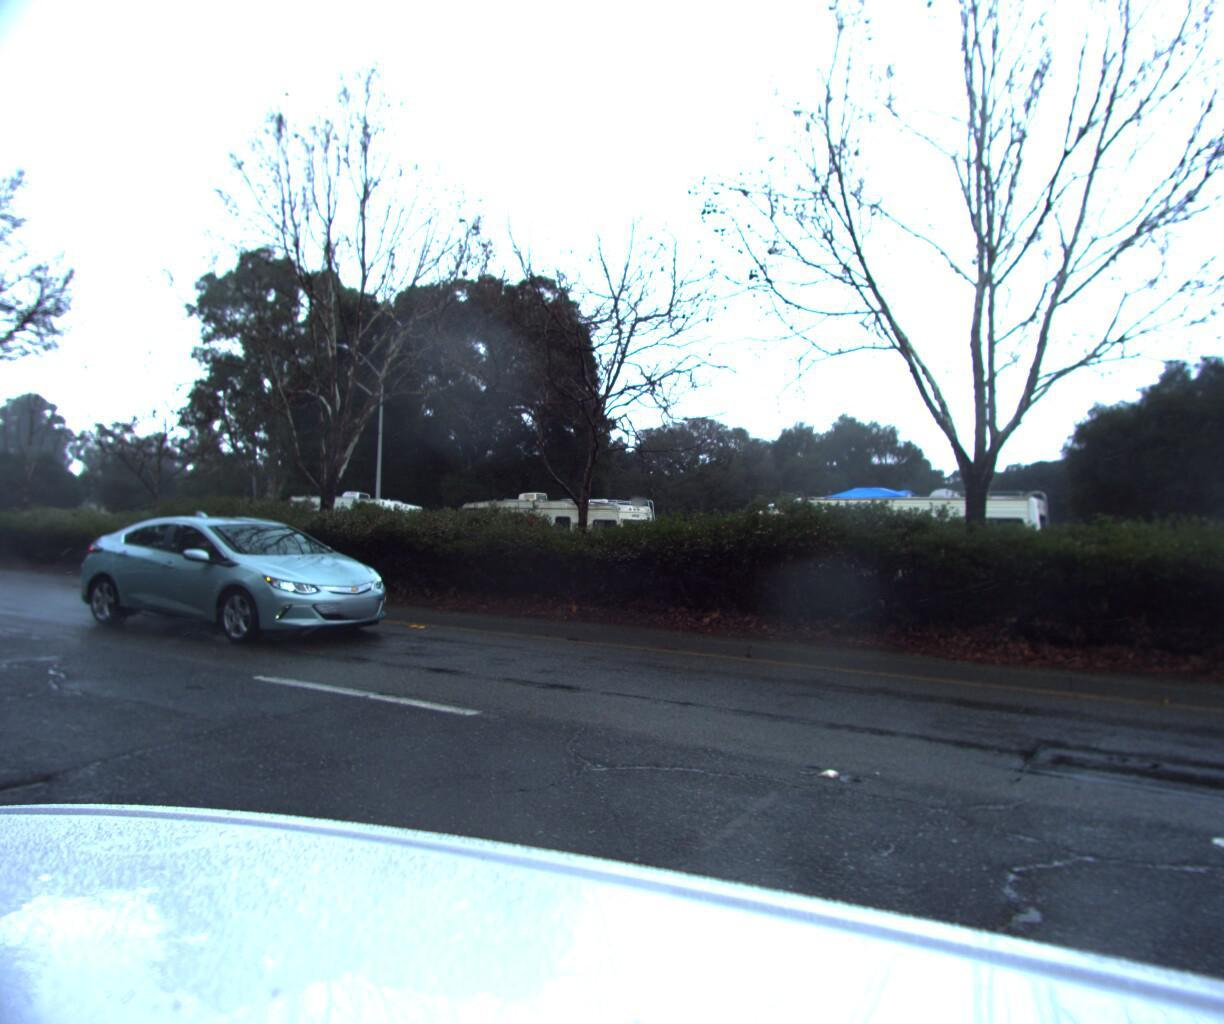car: (72, 509, 419, 654)
other_vehicle: (720, 478, 1058, 620), (436, 488, 658, 587), (271, 490, 425, 573)
